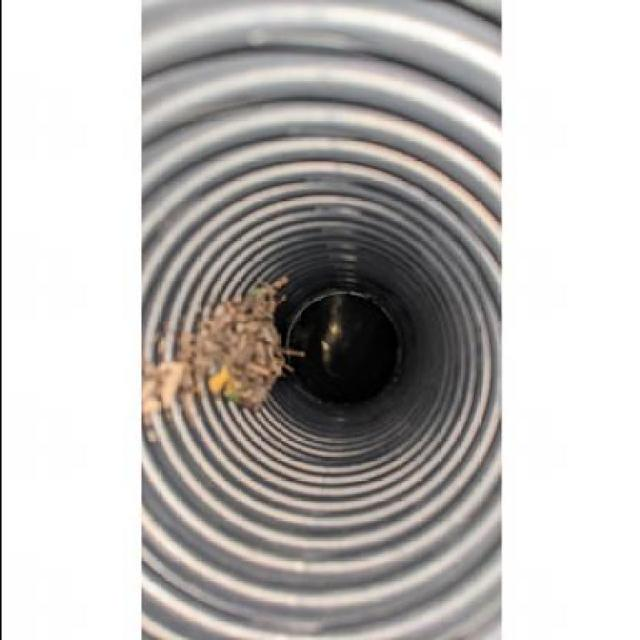dirt: (145, 291, 292, 415)
